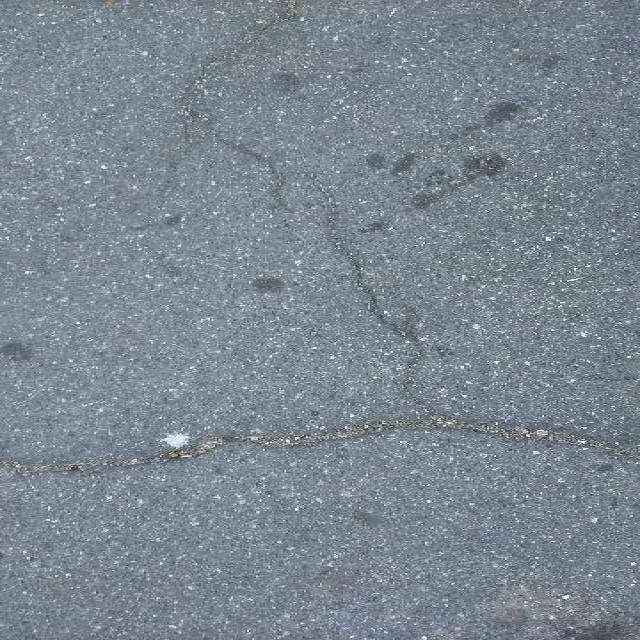GRIETA: (0, 412, 639, 473), (308, 173, 422, 388), (181, 0, 297, 145), (214, 133, 288, 210)
